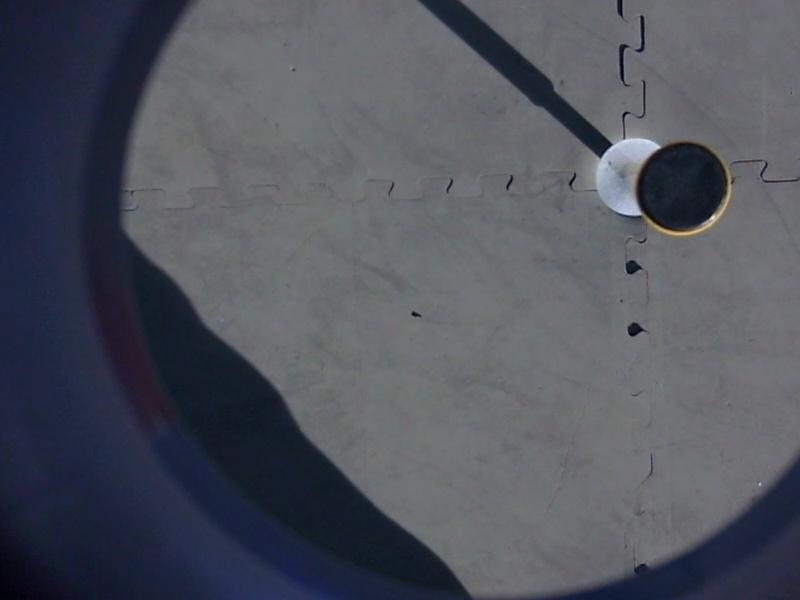tip: (629, 137, 738, 244)
